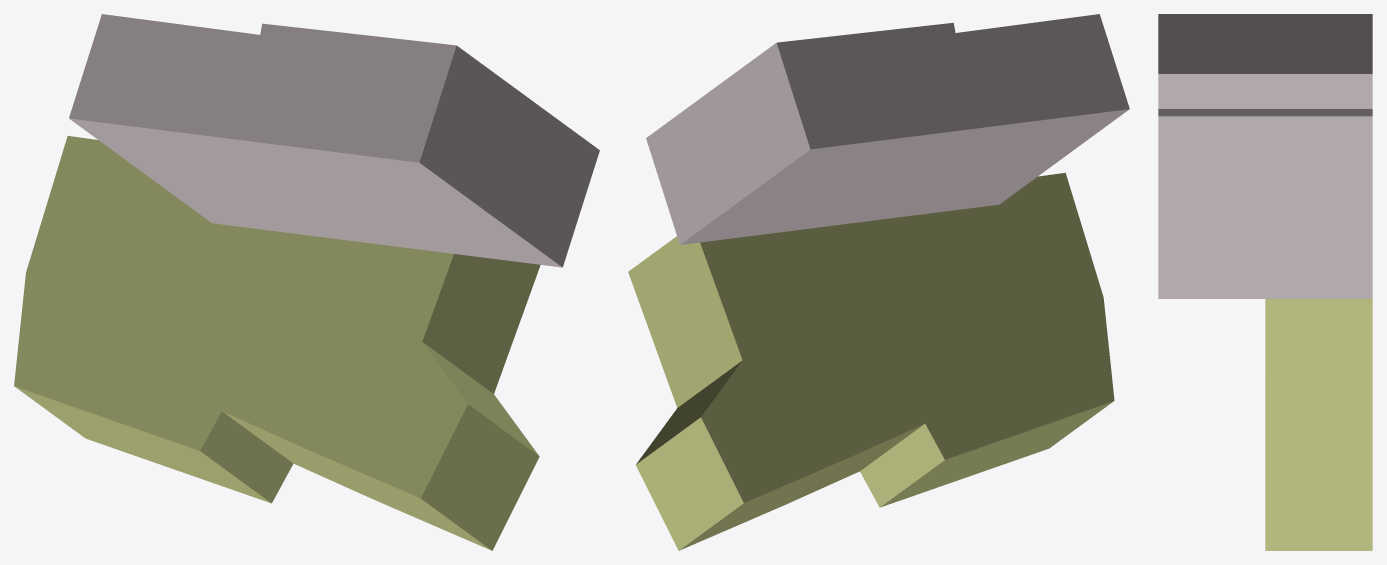
3 views of the same model, side by side, from view 1: azimuth 30°, elevation 25°; view 2: azimuth 150°, elevation 25°; view 3: azimuth 270°, elevation 25° (orthographic). The views are drawn at different scales.
Parts seen in each view (by area): view 1: 0_3_0_1_2_1_1_3_1; view 2: 0_3_0_1_2_1_1_3_1; view 3: 0_3_0_1_2_1_1_3_1.
Boxes of the visible parts, left/top/right/bottom form: 0_3_0_1_2_1_1_3_1: left=14, top=14, right=599, bottom=550; 0_3_0_1_2_1_1_3_1: left=628, top=14, right=1129, bottom=550; 0_3_0_1_2_1_1_3_1: left=1158, top=14, right=1372, bottom=550.
Size of the model in its own units: 22.35 by 25.98 by 12.
